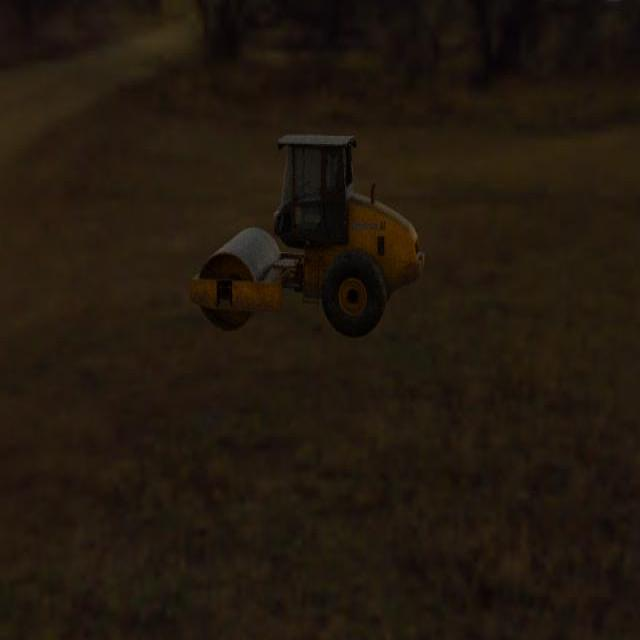Roller: (189, 134, 424, 338)
